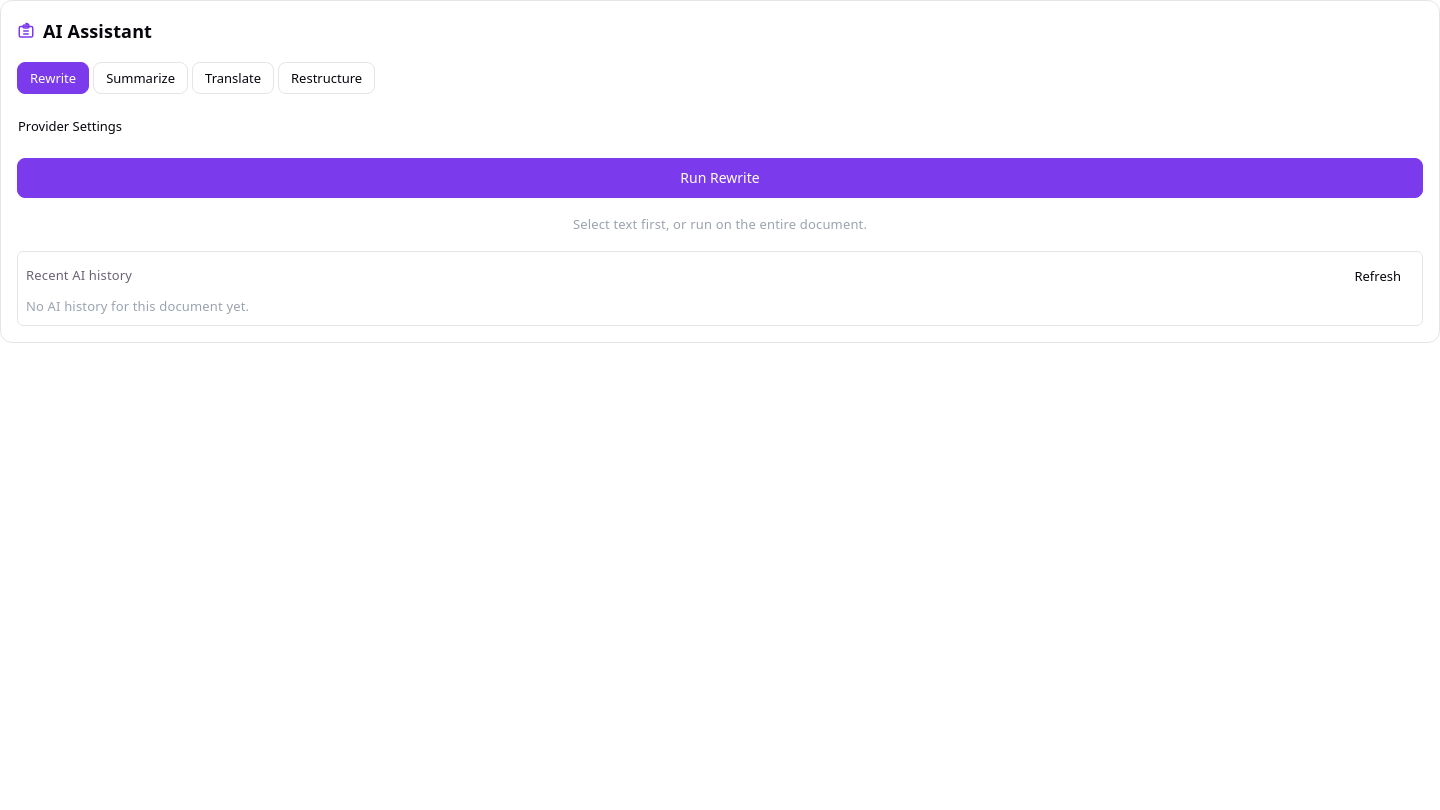
it: AIPanel › rejects a streamed suggestion via the backend
Click the button "Run Rewrite".
click(720, 178)  # box [17,158,1423,198]
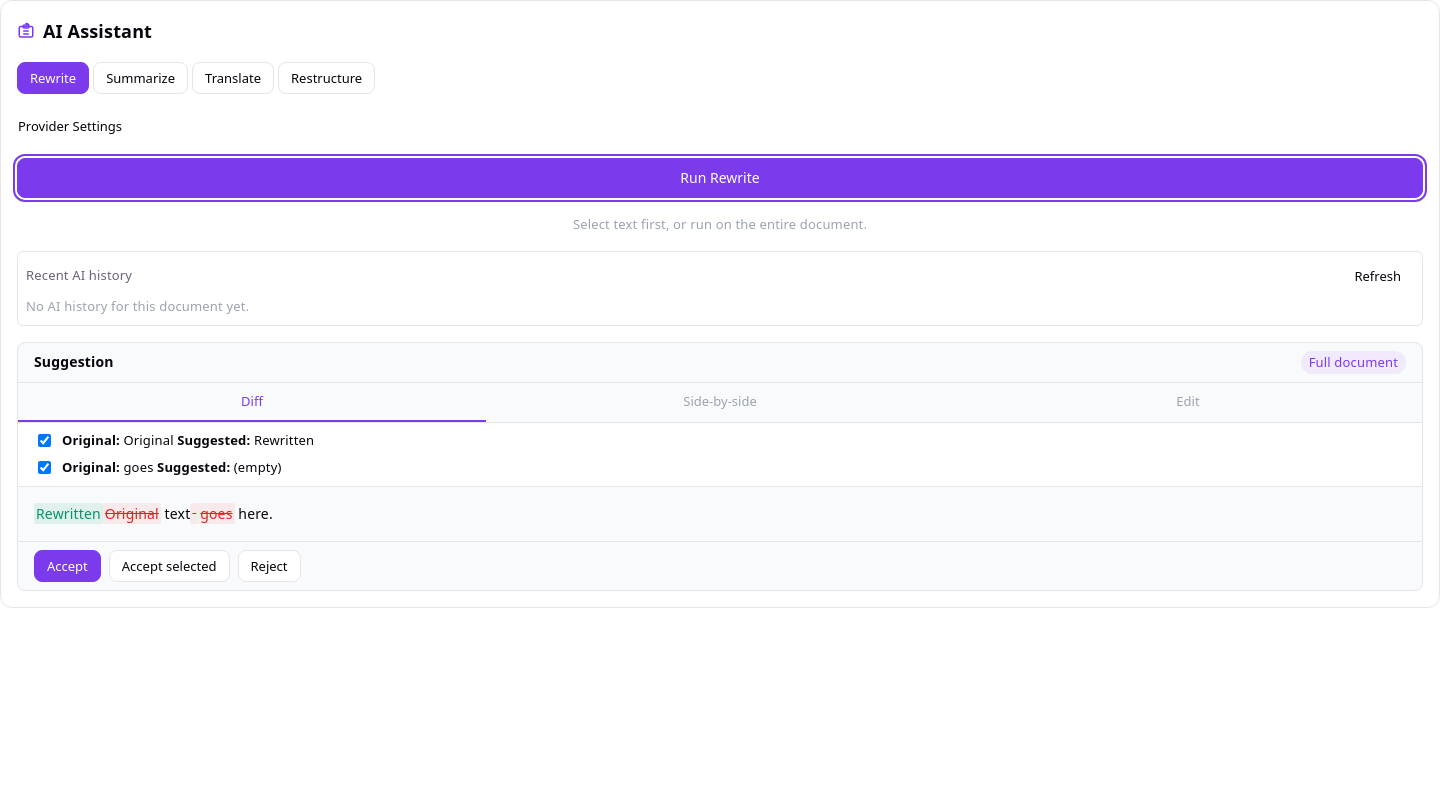
Expected: the heading "Suggestion" is shown, [34,351,114,374]
Click the button "Reject".
click(269, 566)  # box [238,550,300,582]
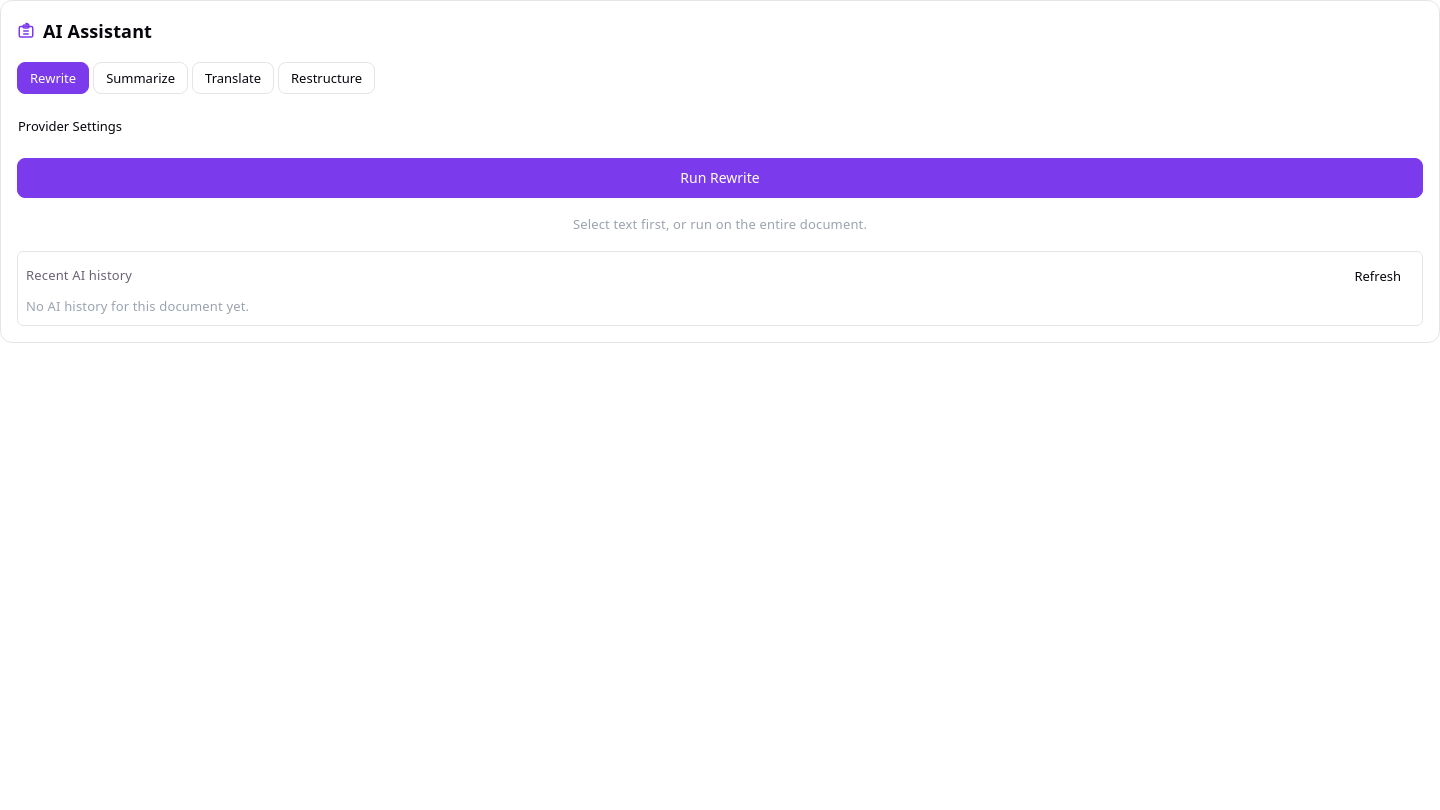
Expected: the heading "Suggestion" is gone
